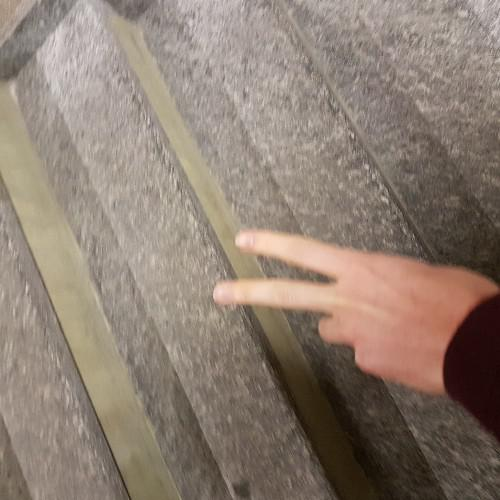scissors: (210, 222, 496, 395)
